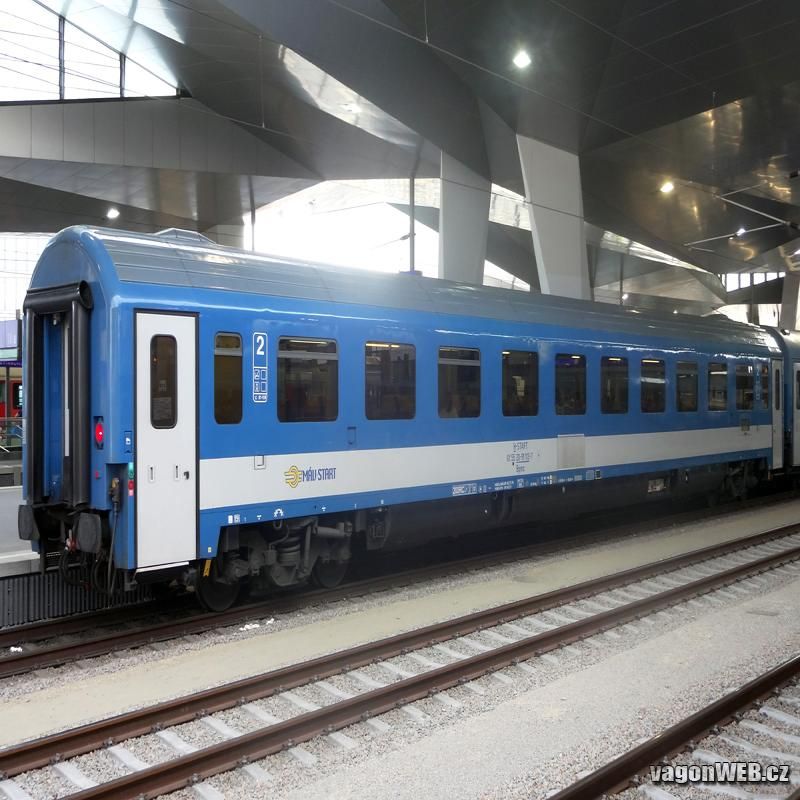train: (20, 224, 785, 641)
